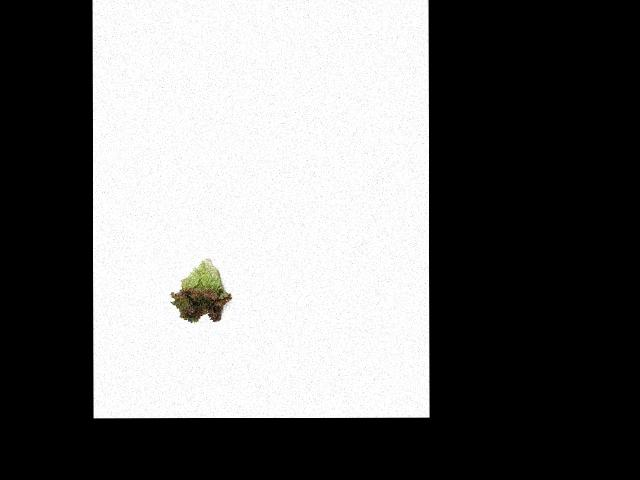lettuce: (167, 256, 237, 331)
